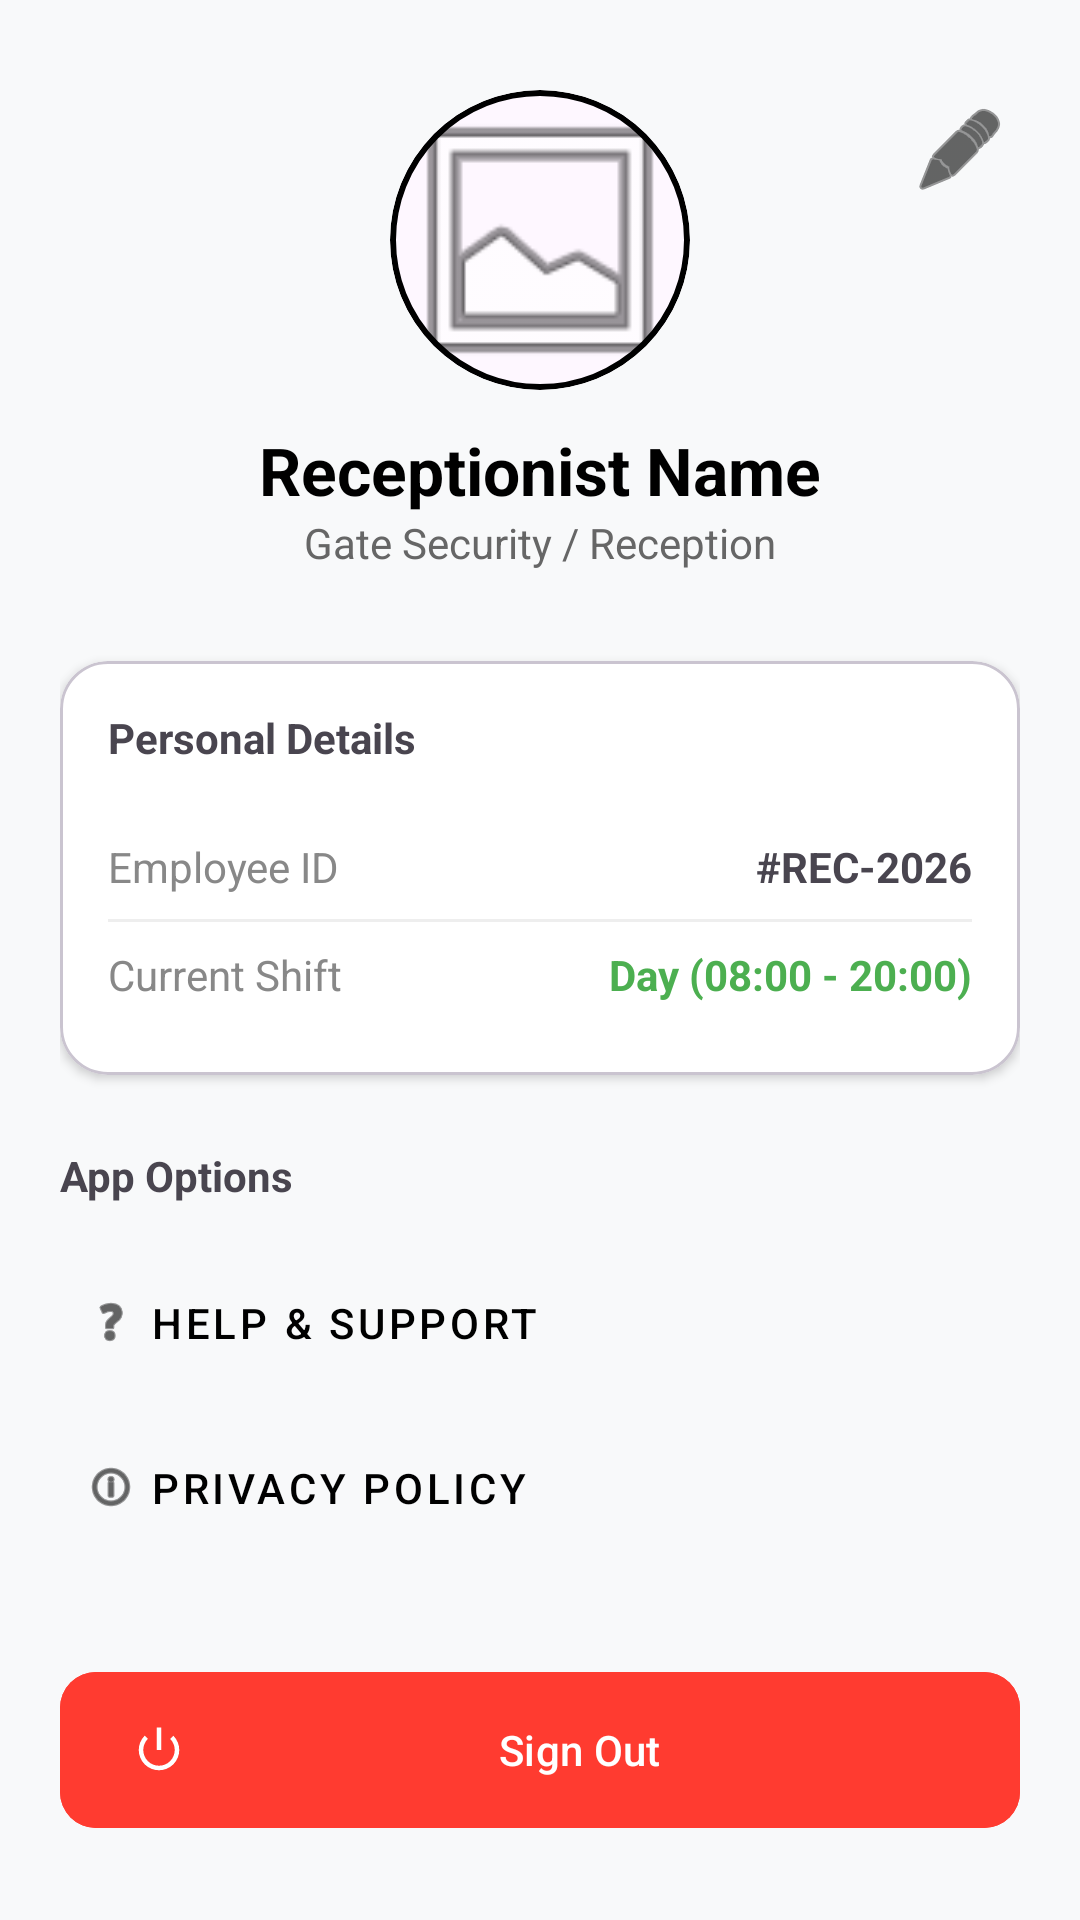

Locate icon controls on the screen. Image size 1080×1920, boxes as (x1, y1, x2, y2).
Edit Profile: (919, 109, 1000, 190)
gallery: (390, 90, 690, 390)
